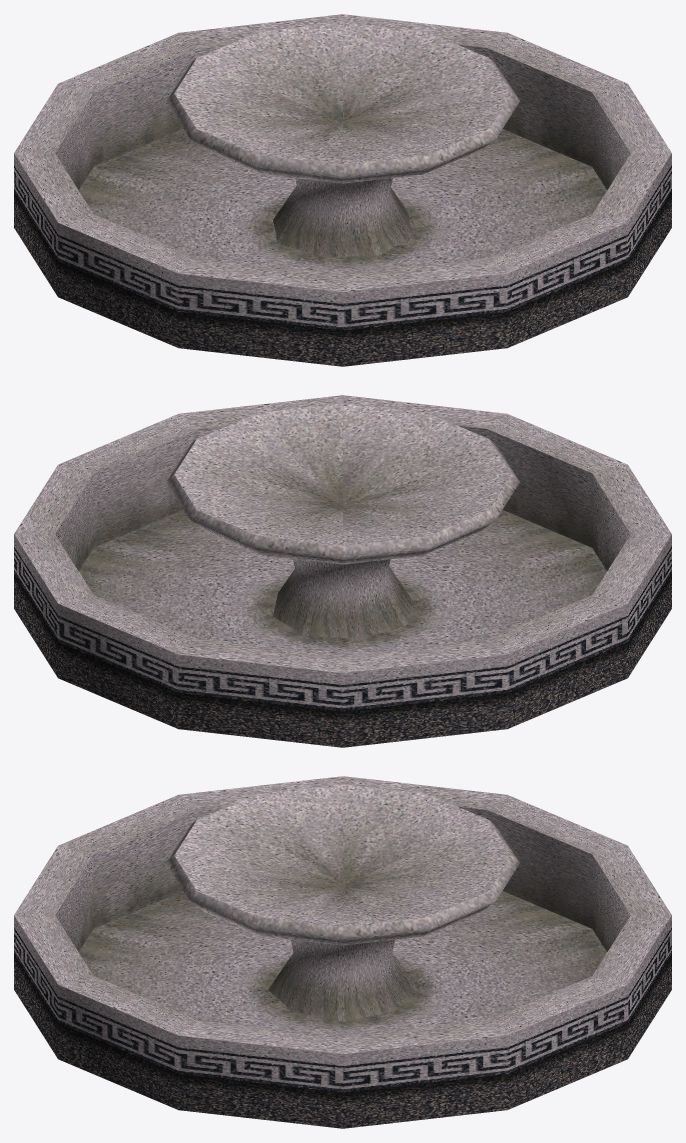
The model's file is M7_Zone2_Fountain1.glb.
The picture shows the model from 3 angles, top to bottom: view 1: azimuth 30°, elevation 25°; view 2: azimuth 150°, elevation 25°; view 3: azimuth 270°, elevation 25°; orthographic projection.
Visible parts, largest first — view 1: M7_ZONE2_FOUNTAIN1; view 2: M7_ZONE2_FOUNTAIN1; view 3: M7_ZONE2_FOUNTAIN1.
Boxes of the visible parts, left/top/right/bottom form: M7_ZONE2_FOUNTAIN1: left=14, top=14, right=671, bottom=366; M7_ZONE2_FOUNTAIN1: left=14, top=395, right=671, bottom=747; M7_ZONE2_FOUNTAIN1: left=14, top=776, right=671, bottom=1128.
Size of the model in its own units: 8 by 1.8 by 8.
Materials: 2 (2 with a texture image).
